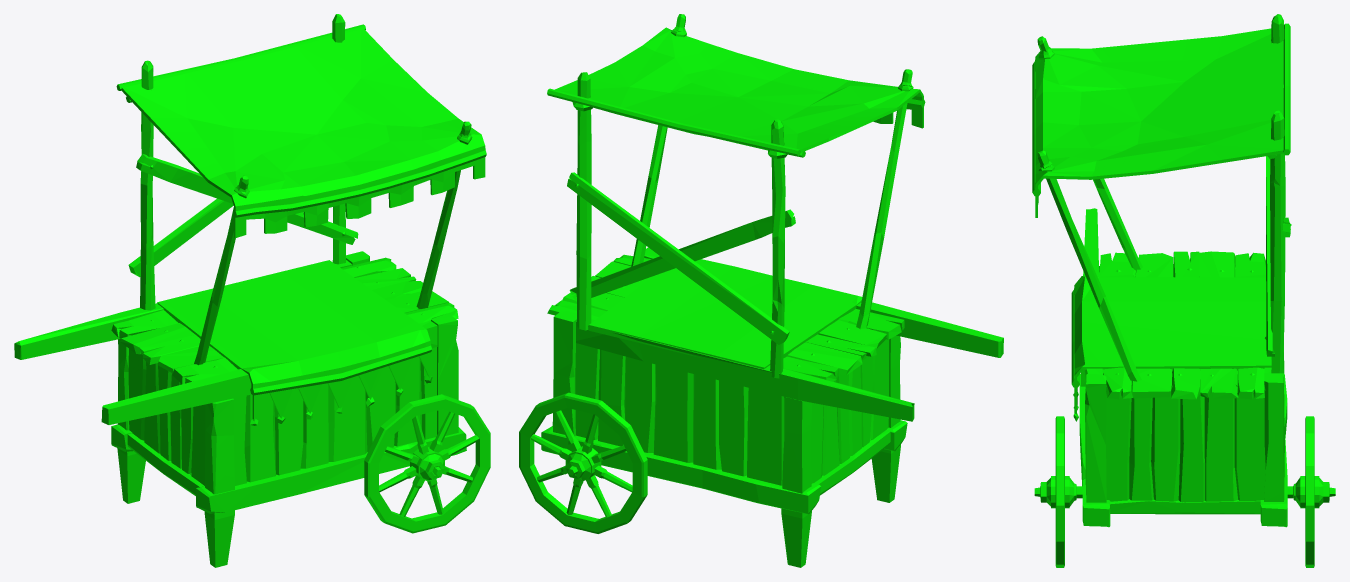
Rendered from SM_Maket_Stall_Vagon_A.fbx.
3 renders of one model, left to right at view 1: azimuth 30°, elevation 25°; view 2: azimuth 150°, elevation 25°; view 3: azimuth 270°, elevation 25°, orthographic. The views are drawn at different scales.
Parts seen in each view (by area): view 1: maket-cart-a-base, maket-cart-a-wheels; view 2: maket-cart-a-base, maket-cart-a-wheels; view 3: maket-cart-a-base, maket-cart-a-wheels.
Boxes of the visible parts, left/top/right/bottom form: maket-cart-a-base: left=14, top=14, right=486, bottom=567; maket-cart-a-wheels: left=364, top=394, right=490, bottom=533; maket-cart-a-base: left=541, top=14, right=1003, bottom=567; maket-cart-a-wheels: left=519, top=392, right=647, bottom=533; maket-cart-a-base: left=1032, top=14, right=1291, bottom=527; maket-cart-a-wheels: left=1034, top=416, right=1335, bottom=567.
Bounding box in the file's own units: 2.09 × 2.35 × 1.41.
